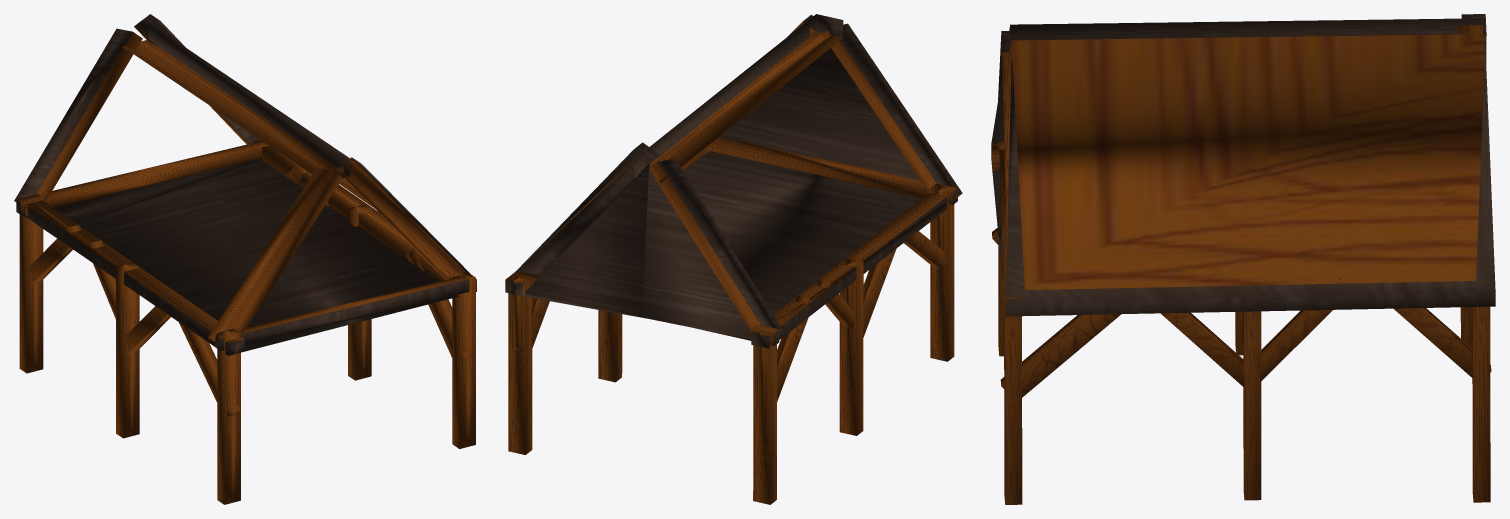
Rendered from barn1.fbx.
The picture shows the model from 3 angles, left to right: view 1: azimuth 30°, elevation 25°; view 2: azimuth 150°, elevation 25°; view 3: azimuth 270°, elevation 25°; orthographic projection. The views are drawn at different scales.
Parts seen in each view (by area): view 1: payah; view 2: payah; view 3: payah.
Boxes of the visible parts, <box> form: payah: <box>14,14,476,504</box>; payah: <box>505,14,962,504</box>; payah: <box>991,14,1495,504</box>.
Size of the model in its own units: 41.55 by 47.66 by 53.93.
